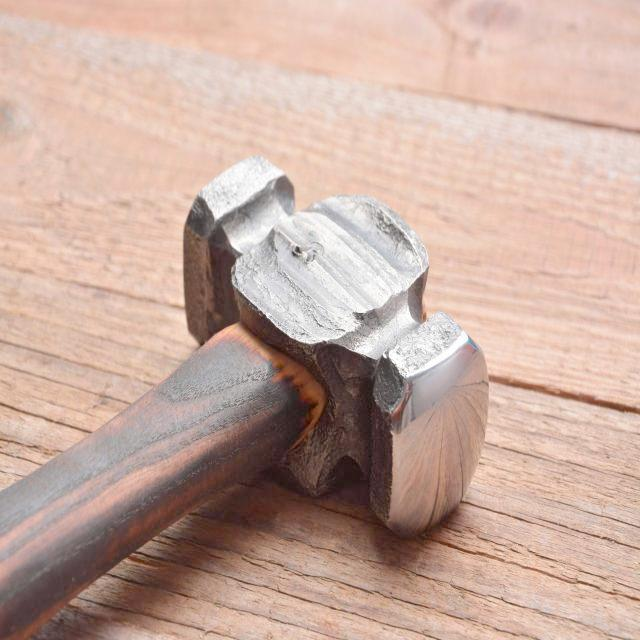hammer: (0, 145, 501, 640)
